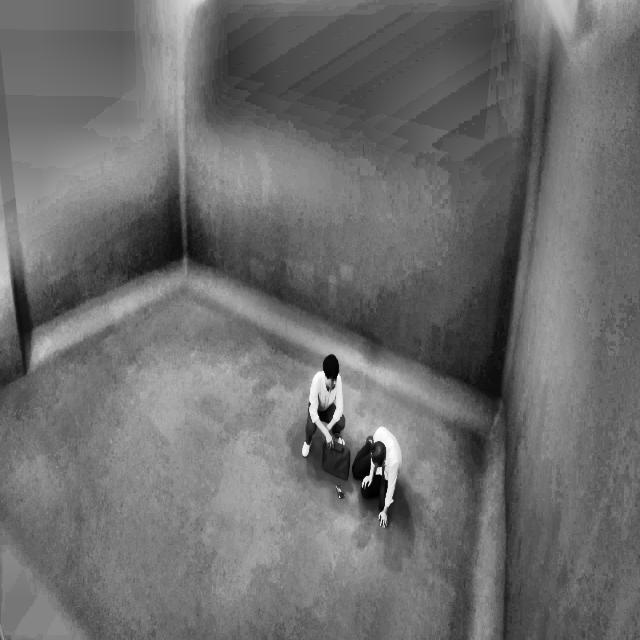assult: (292, 333, 406, 530), (352, 409, 403, 525)
